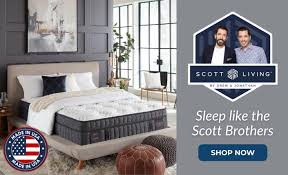bed-matress: (16, 89, 167, 146)
